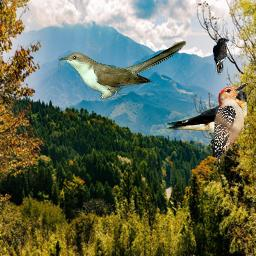Crow: (213, 38, 229, 75)
Cuckoo: (58, 40, 186, 99)
Swallow: (150, 88, 248, 139)
Woodpecker: (214, 82, 249, 170)
